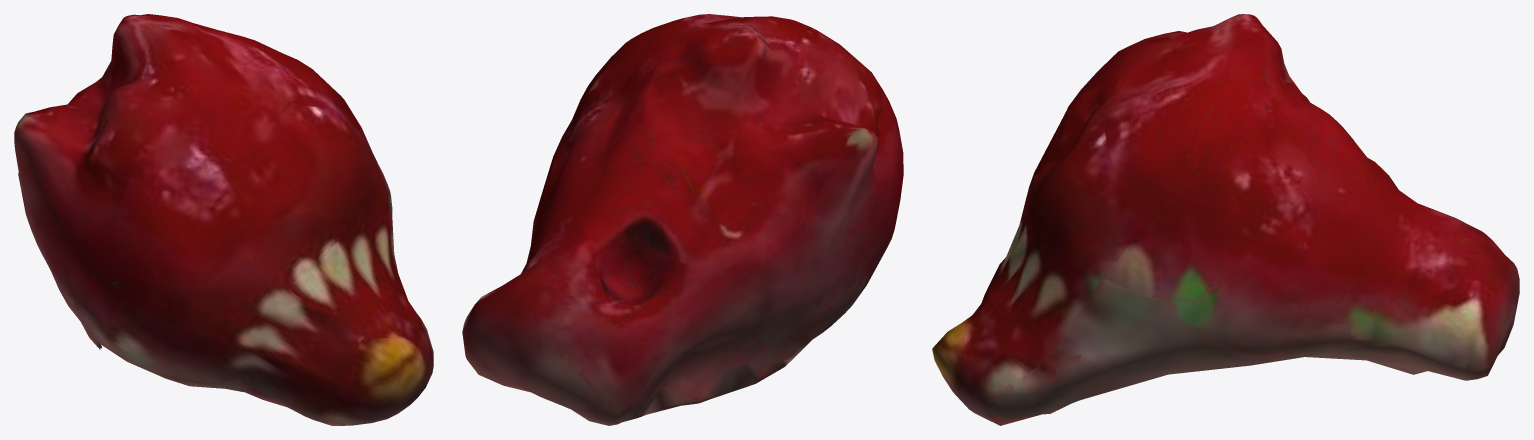
File: hall.glb
3 renders of one model, left to right at view 1: azimuth 30°, elevation 25°; view 2: azimuth 150°, elevation 25°; view 3: azimuth 270°, elevation 25°, orthographic.
Size of the model in its own units: 0.3922 by 0.4061 by 0.6145.
Materials: 1 (1 with a texture image).
